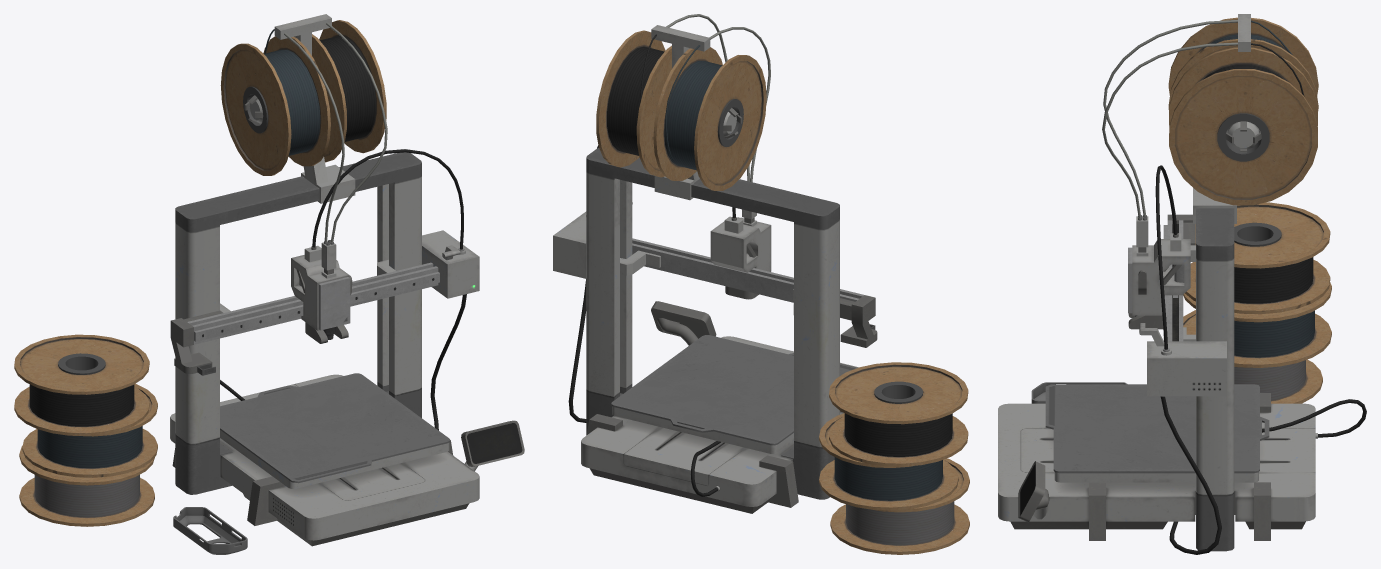
Rendered from 3d_printer.glb.
3 views of the same model, side by side, from view 1: azimuth 30°, elevation 25°; view 2: azimuth 150°, elevation 25°; view 3: azimuth 270°, elevation 25° (orthographic). The views are drawn at different scales.
Visible parts, largest first — view 1: 3D_Printer, Filament_Spool_Stack, Filament_Spools, Device_Shell; view 2: 3D_Printer, Filament_Spool_Stack, Filament_Spools; view 3: 3D_Printer, Filament_Spools, Filament_Spool_Stack, Device_Shell.
Part boxes in pixels (bbox=[...]): 3D_Printer: bbox=[170, 14, 524, 546]; Filament_Spool_Stack: bbox=[14, 334, 157, 526]; Filament_Spools: bbox=[220, 20, 386, 175]; Device_Shell: bbox=[173, 507, 247, 554]; 3D_Printer: bbox=[553, 14, 877, 513]; Filament_Spool_Stack: bbox=[819, 362, 969, 554]; Filament_Spools: bbox=[596, 30, 766, 190]; 3D_Printer: bbox=[998, 14, 1366, 554]; Filament_Spools: bbox=[1168, 17, 1318, 205]; Filament_Spool_Stack: bbox=[1183, 202, 1331, 403]; Device_Shell: bbox=[1031, 382, 1127, 403].
Bounding box in the file's own units: 0.704 × 0.7013 × 0.4993.
Materials: 2 (2 with a texture image).
